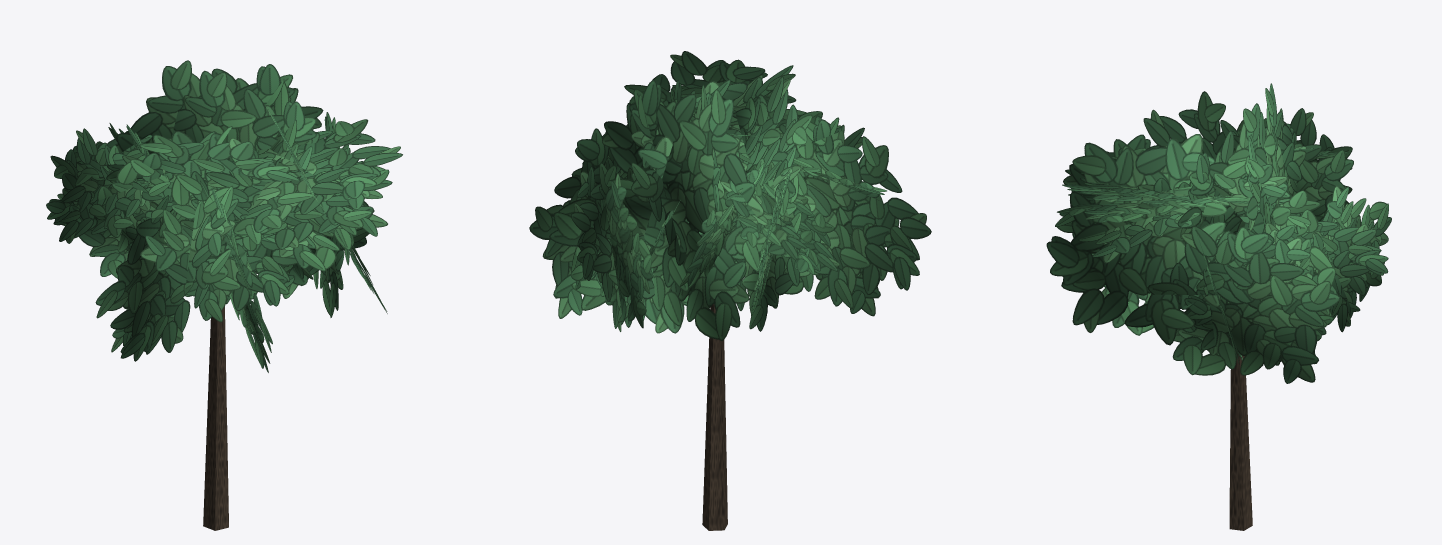
The model's file is carpino_2_leggero.glb.
3 renders of one model, left to right at view 1: azimuth 30°, elevation 25°; view 2: azimuth 150°, elevation 25°; view 3: azimuth 270°, elevation 25°, orthographic. The views are drawn at different scales.
Parts seen in each view (by area): view 1: carpino_2_leggero; view 2: carpino_2_leggero; view 3: carpino_2_leggero.
Boxes of the visible parts, <box> form: carpino_2_leggero: <box>46,60,402,530</box>; carpino_2_leggero: <box>529,51,931,530</box>; carpino_2_leggero: <box>1046,83,1391,530</box>.
Size of the model in its own units: 9.92 by 13.35 by 10.49.
2 materials, 2 textured.
